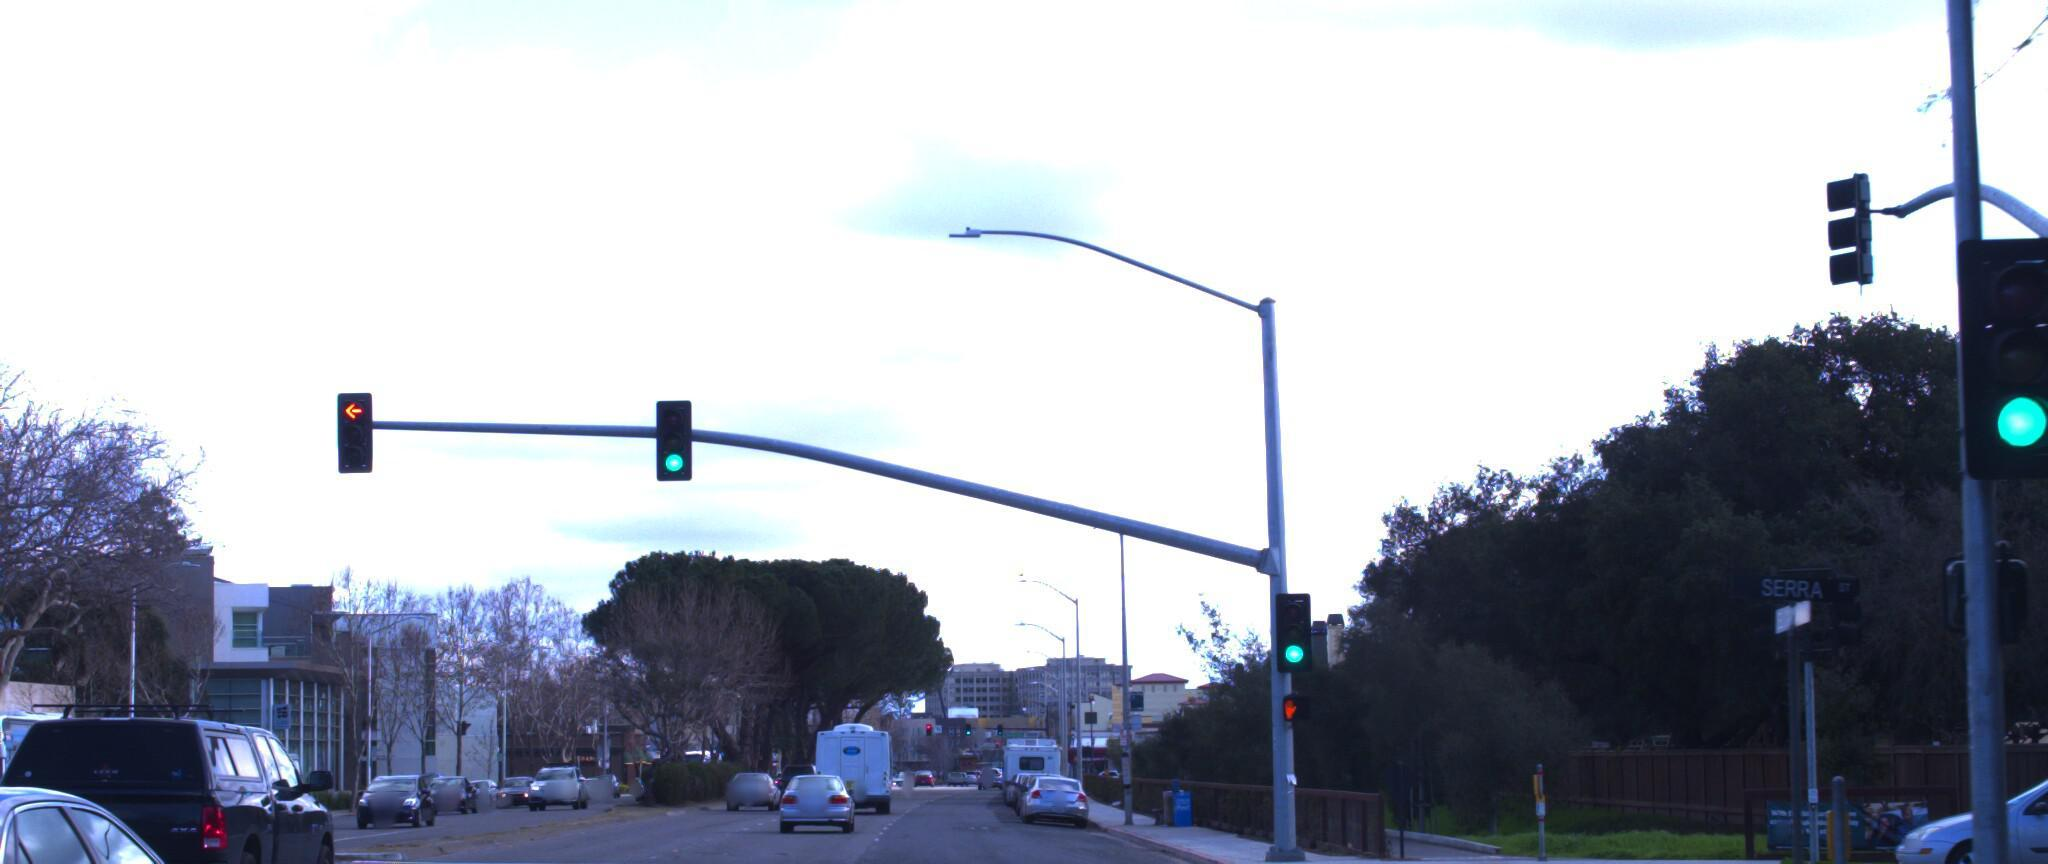car: (0, 687, 355, 864), (0, 723, 307, 864), (1866, 748, 2048, 864), (790, 757, 874, 826)
